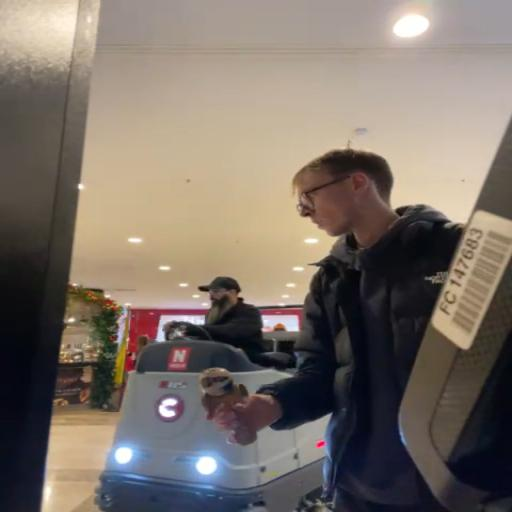kendama_ball: (198, 367, 234, 396)
